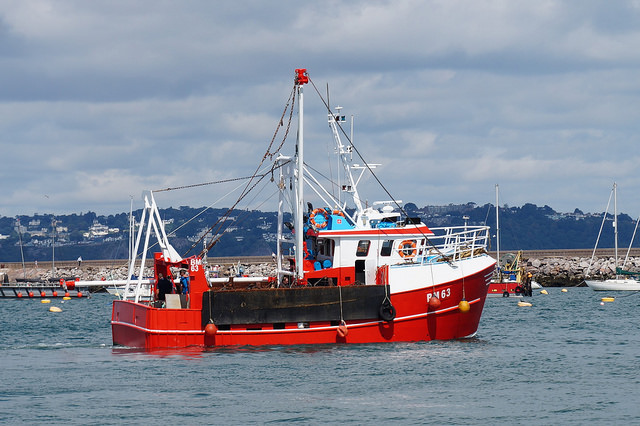boat: (585, 185, 640, 295)
fishing_boat: (104, 63, 505, 359)
